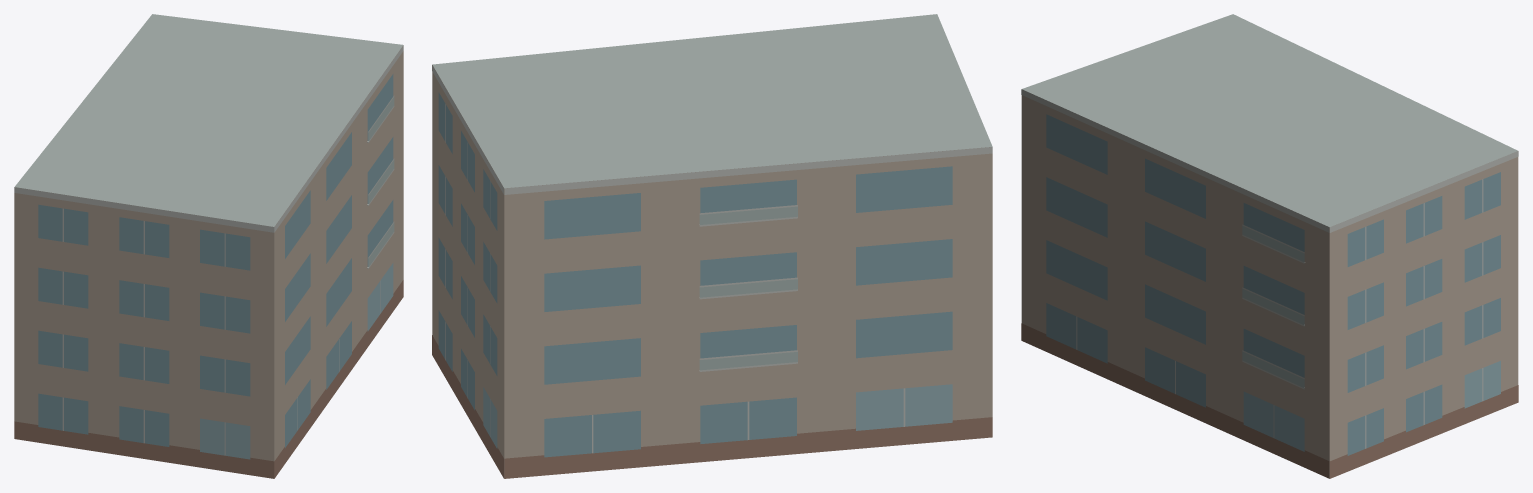
The model's file is survey-upis-32790930.glb.
3 views of the same model, side by side, from view 1: azimuth 30°, elevation 25°; view 2: azimuth 150°, elevation 25°; view 3: azimuth 270°, elevation 25° (orthographic). The views are drawn at different scales.
Visible parts, largest first — view 1: survey-upis-32790930.tmp; view 2: survey-upis-32790930.tmp; view 3: survey-upis-32790930.tmp.
Part boxes in pixels (bbox=[...]): survey-upis-32790930.tmp: bbox=[14, 14, 403, 478]; survey-upis-32790930.tmp: bbox=[432, 14, 992, 478]; survey-upis-32790930.tmp: bbox=[1021, 14, 1518, 478].
Bounding box in the file's own units: 19.28 × 10.6 × 18.98.
